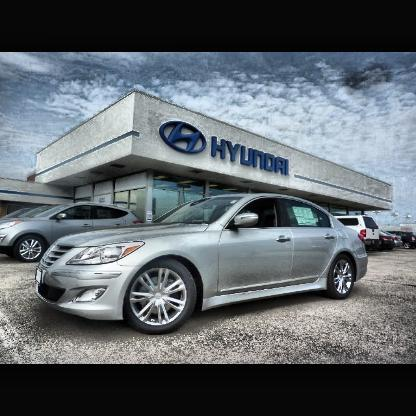Hyundai Genesis Sedan 2012: (36, 195, 368, 338)
